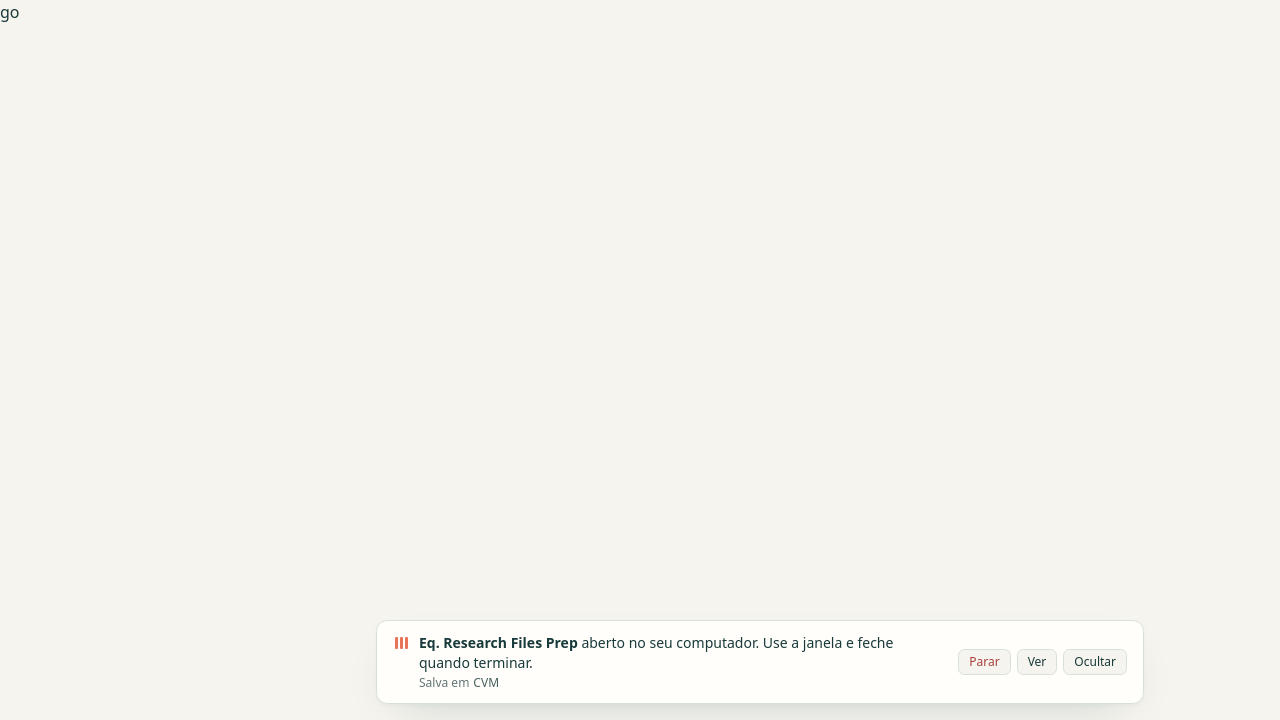
Test case: a refused stop shows why and keeps the dialog
This screenshot has width=1280, height=720.
What coordinates should you click on to do the following:
click the button "Parar"
I would click on:
 (984, 662)
Its box is x1=958 y1=649 x2=1011 y2=675.
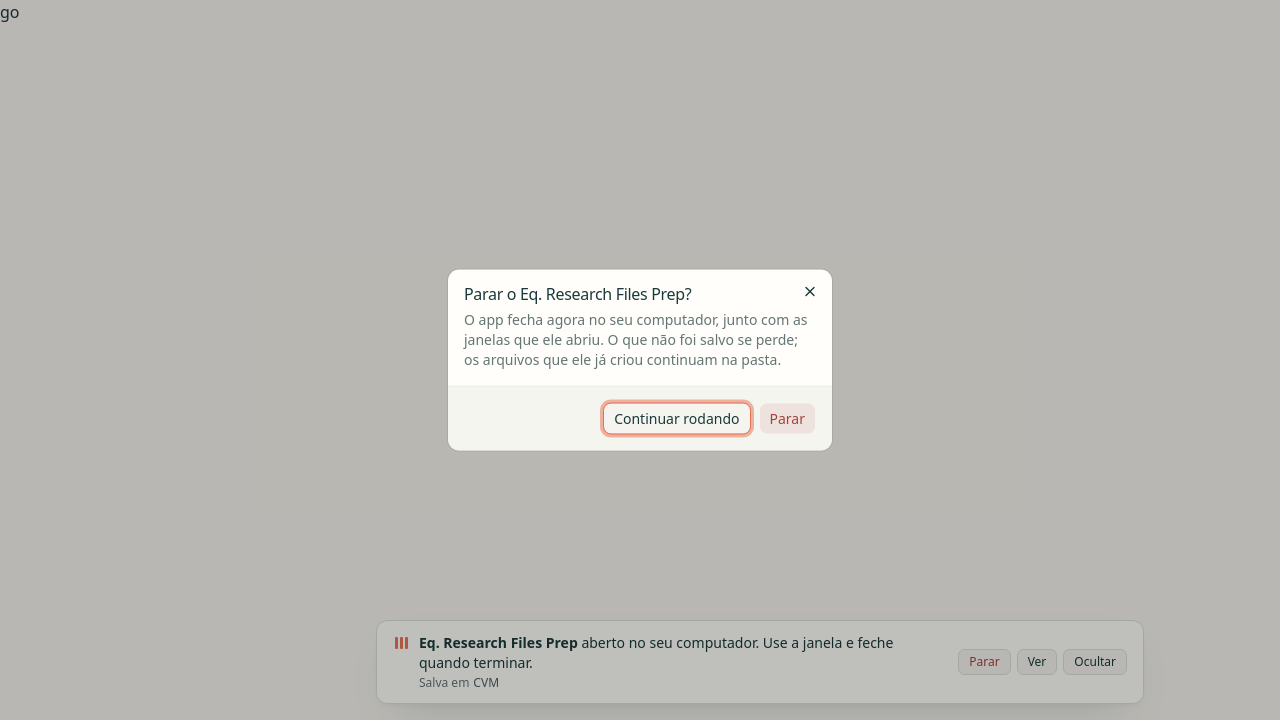
What coordinates should you click on to do the following:
click the button "Parar"
I would click on:
 (787, 418)
Its box is x1=758 y1=402 x2=816 y2=434.
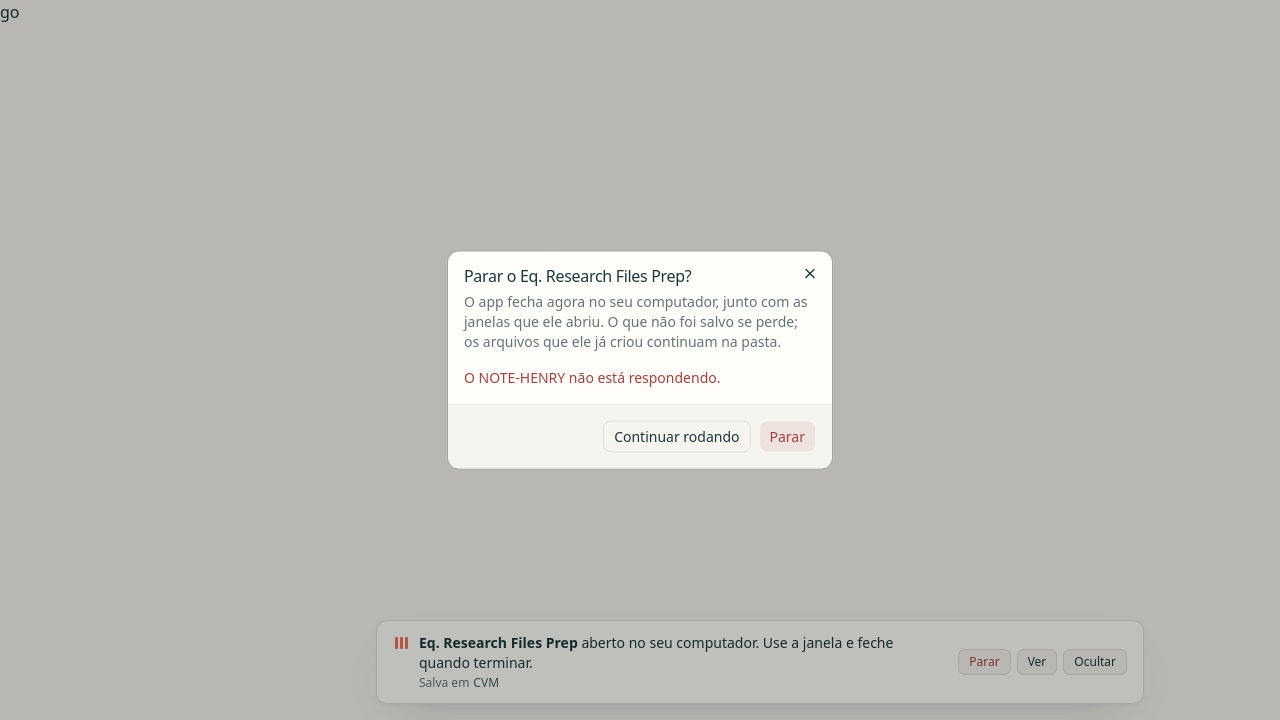
Result: the dialog is shown at x1=448 y1=252 x2=832 y2=468
Result: the message shows "não está respondendo" at x1=464 y1=368 x2=720 y2=386
